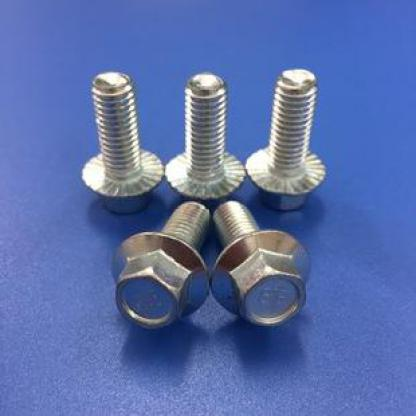FOD: (208, 198, 313, 328), (109, 200, 212, 330), (80, 71, 164, 218), (247, 66, 326, 216), (165, 70, 247, 208)
